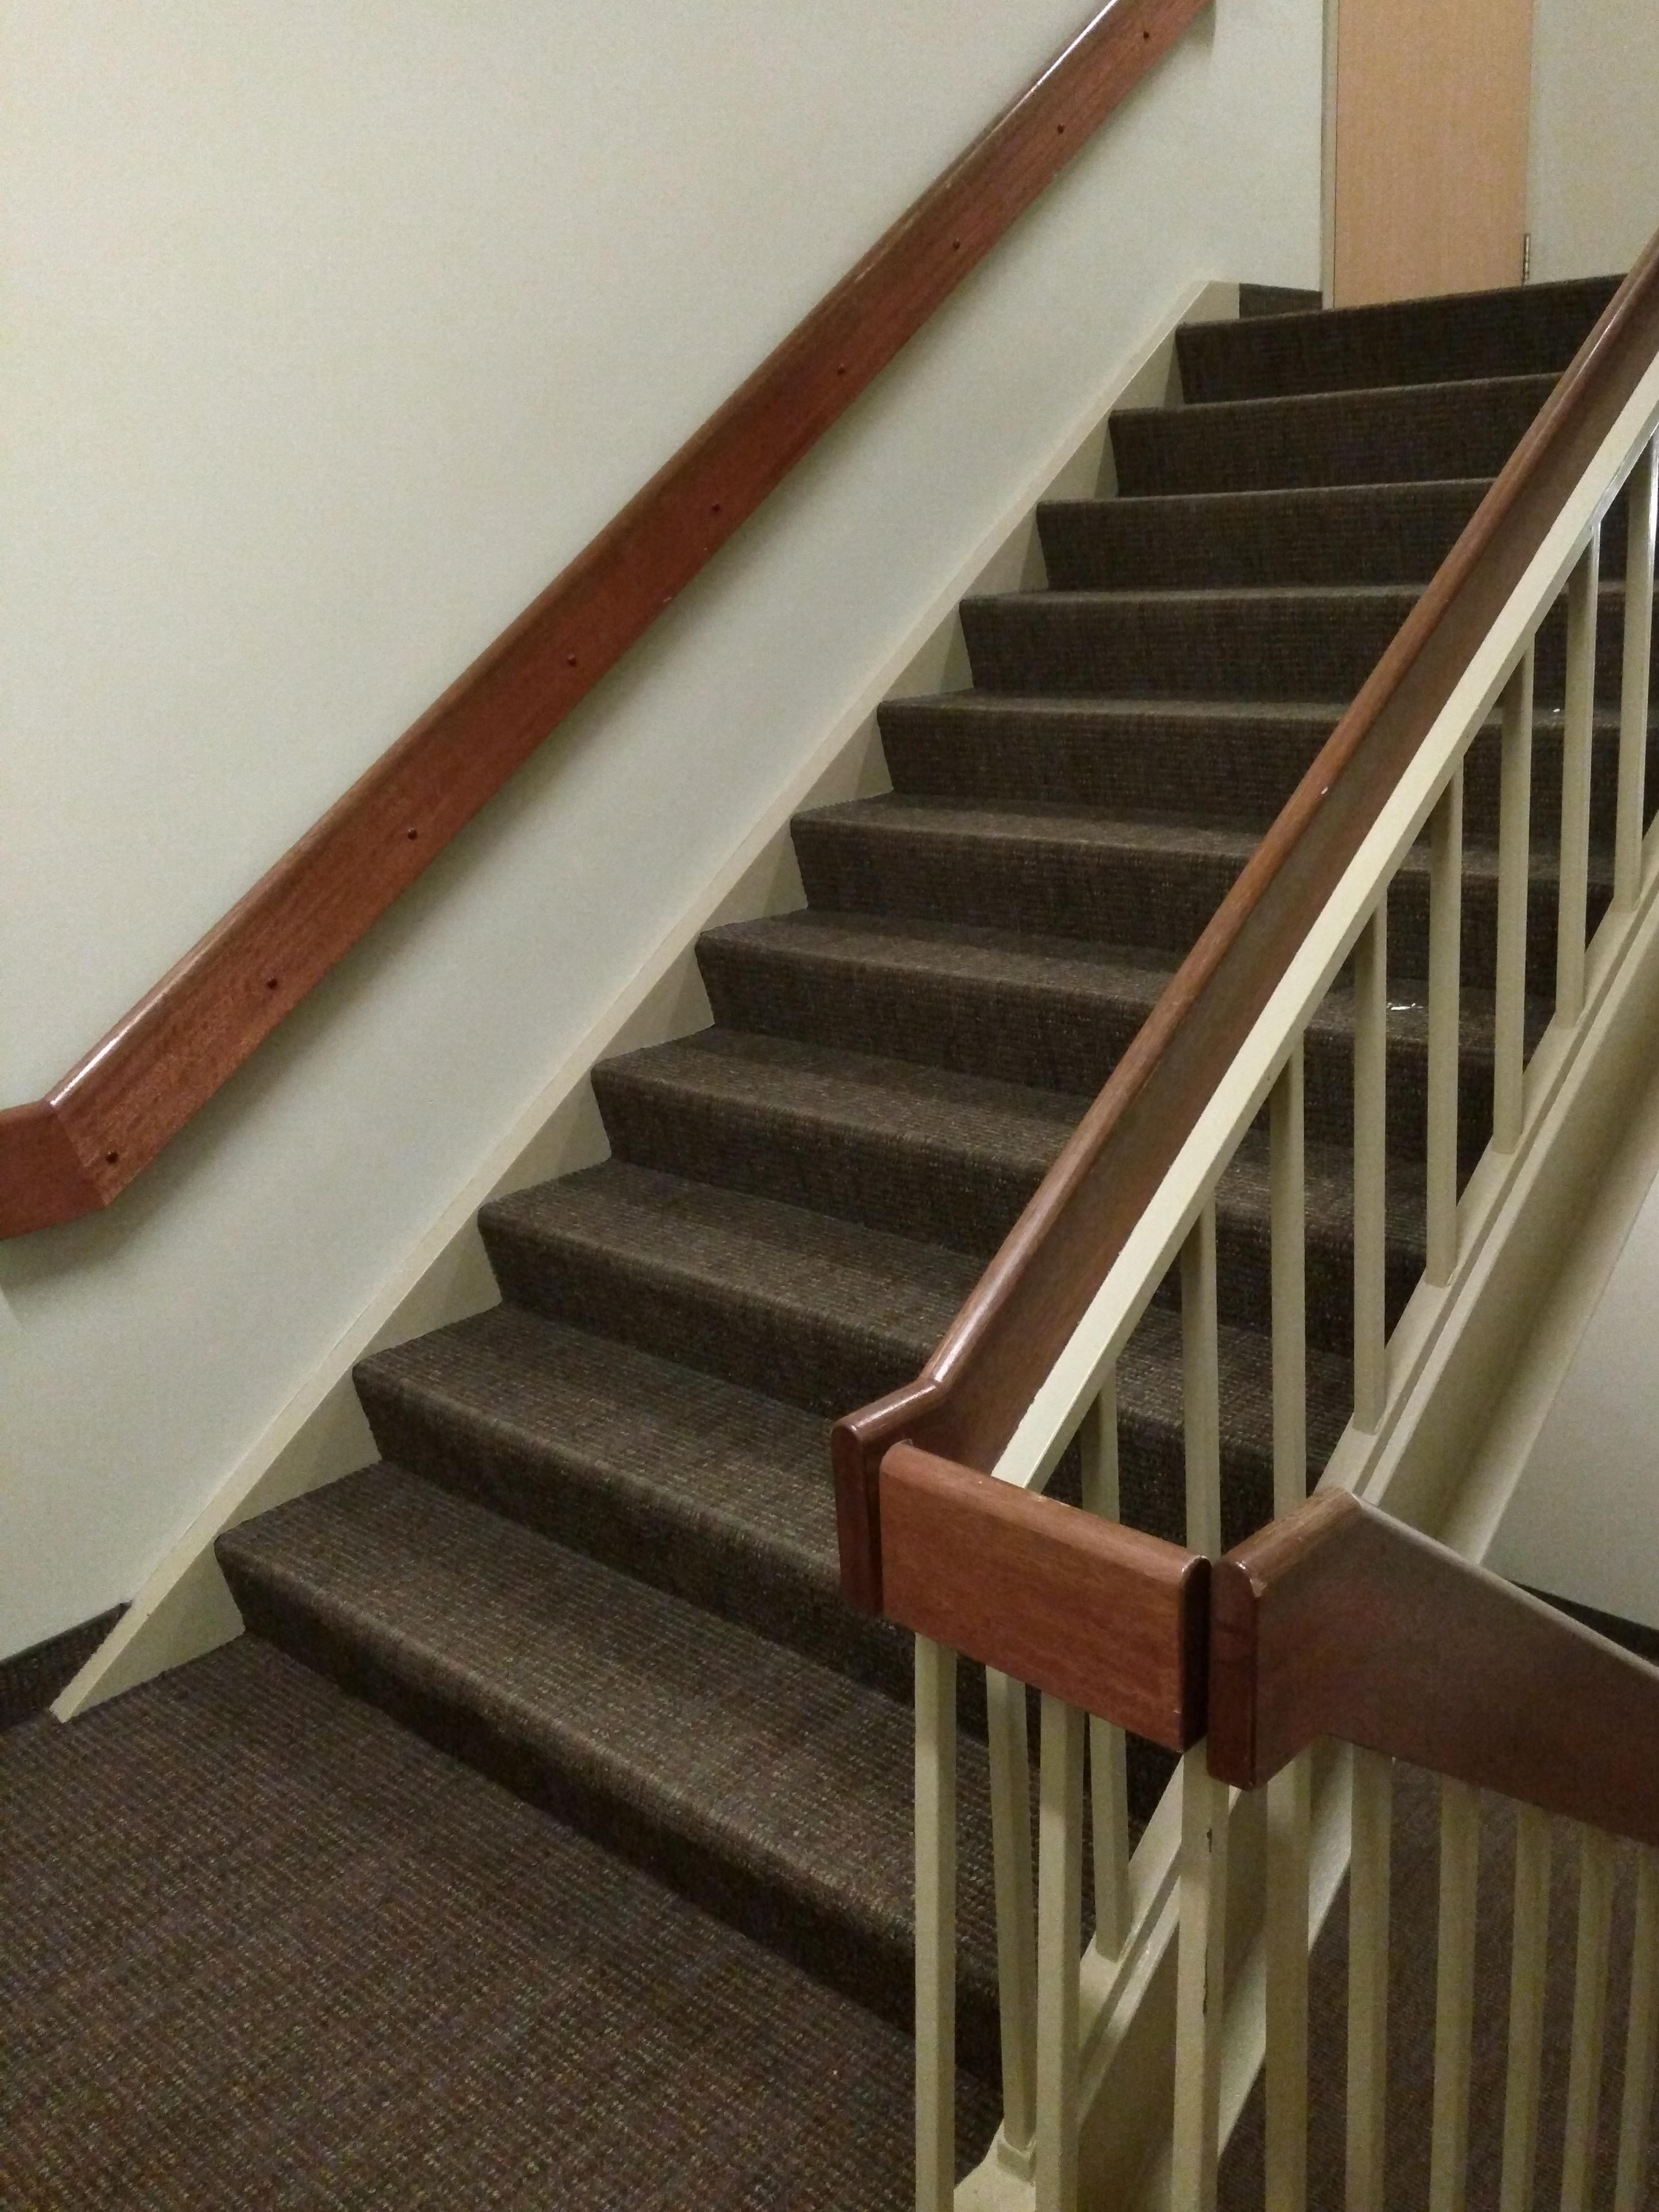stairs_up: (197, 247, 1659, 2033)
